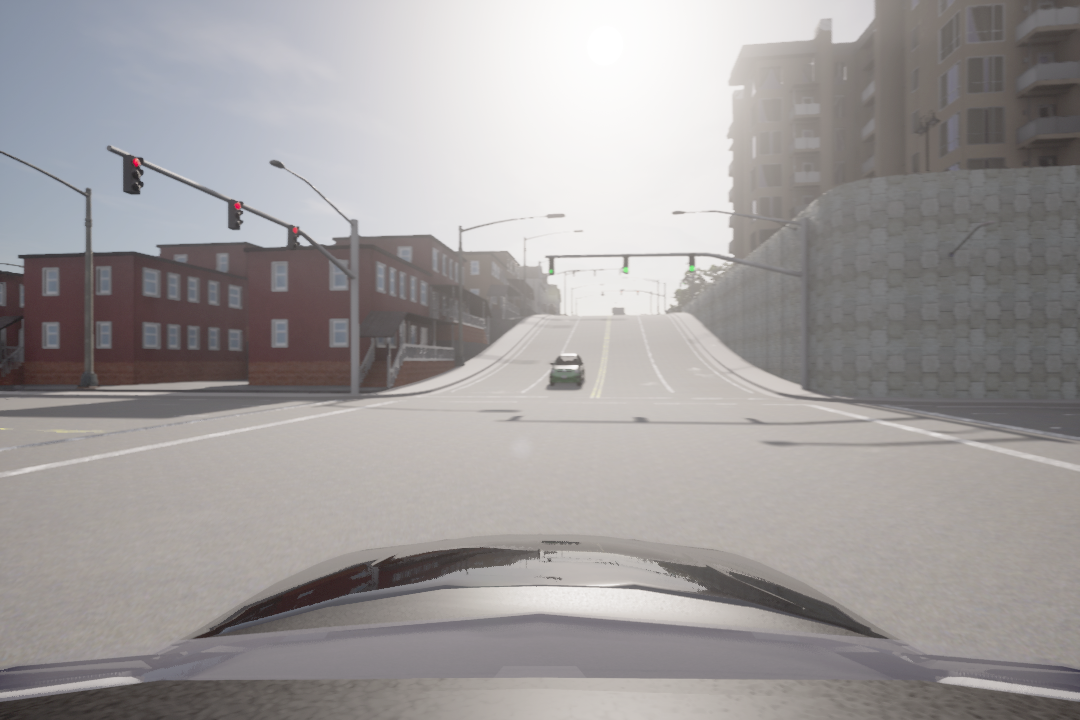TrafficLight: (121, 151, 146, 194), (227, 200, 246, 231), (288, 222, 301, 251), (621, 254, 633, 277), (687, 251, 697, 275), (546, 255, 556, 275)
